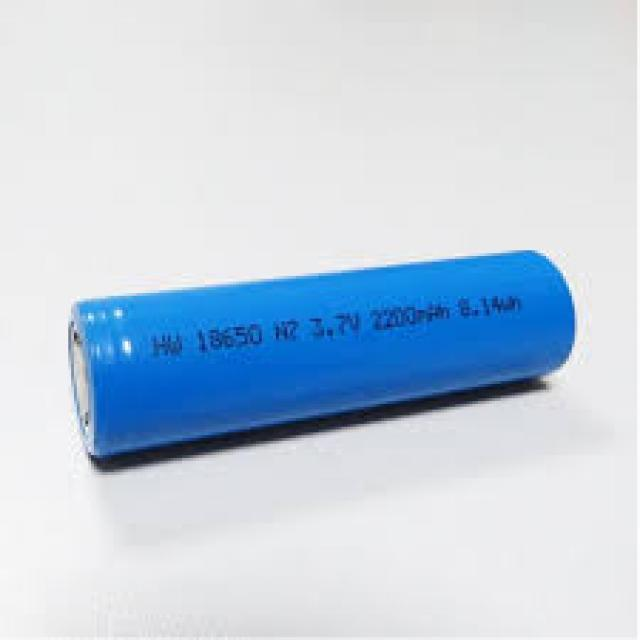battery: (62, 245, 576, 464)
